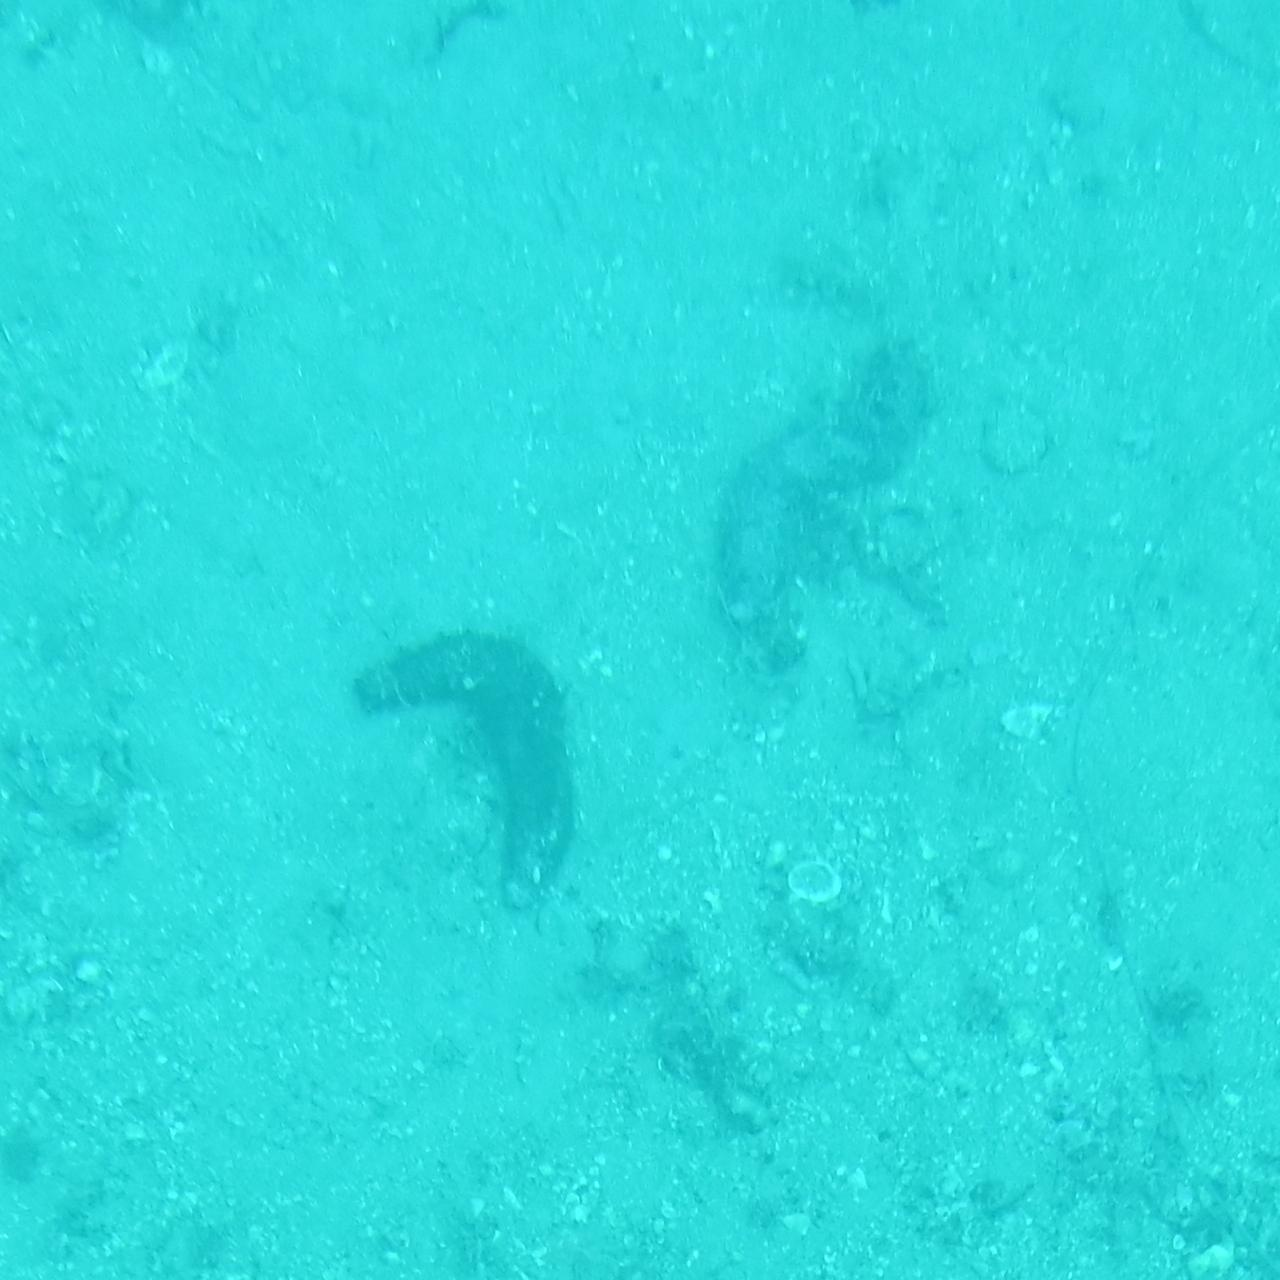Holothuria tubulosa: (709, 334, 945, 688), (341, 607, 567, 931)
